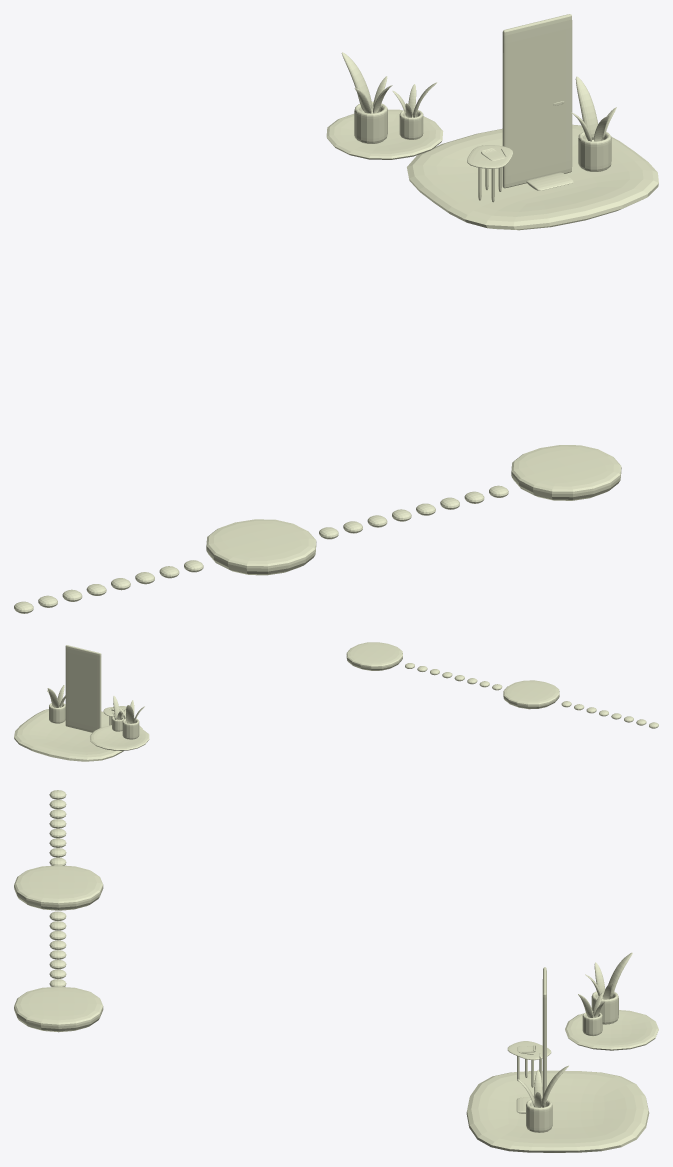
Rendered from human.glb.
3 renders of one model, top to bottom at view 1: azimuth 30°, elevation 25°; view 2: azimuth 150°, elevation 25°; view 3: azimuth 270°, elevation 25°, orthographic. The views are drawn at different scales.
Parts seen in each view (by area): view 1: Cube; view 2: Cube; view 3: Cube.
Boxes of the visible parts, x1=… form: Cube: x1=14, y1=14, x2=658, y2=613; Cube: x1=14, y1=642, x2=658, y2=761; Cube: x1=14, y1=790, x2=658, y2=1152.
Bounding box in the file's own units: 17.08 × 3.18 × 12.67.
